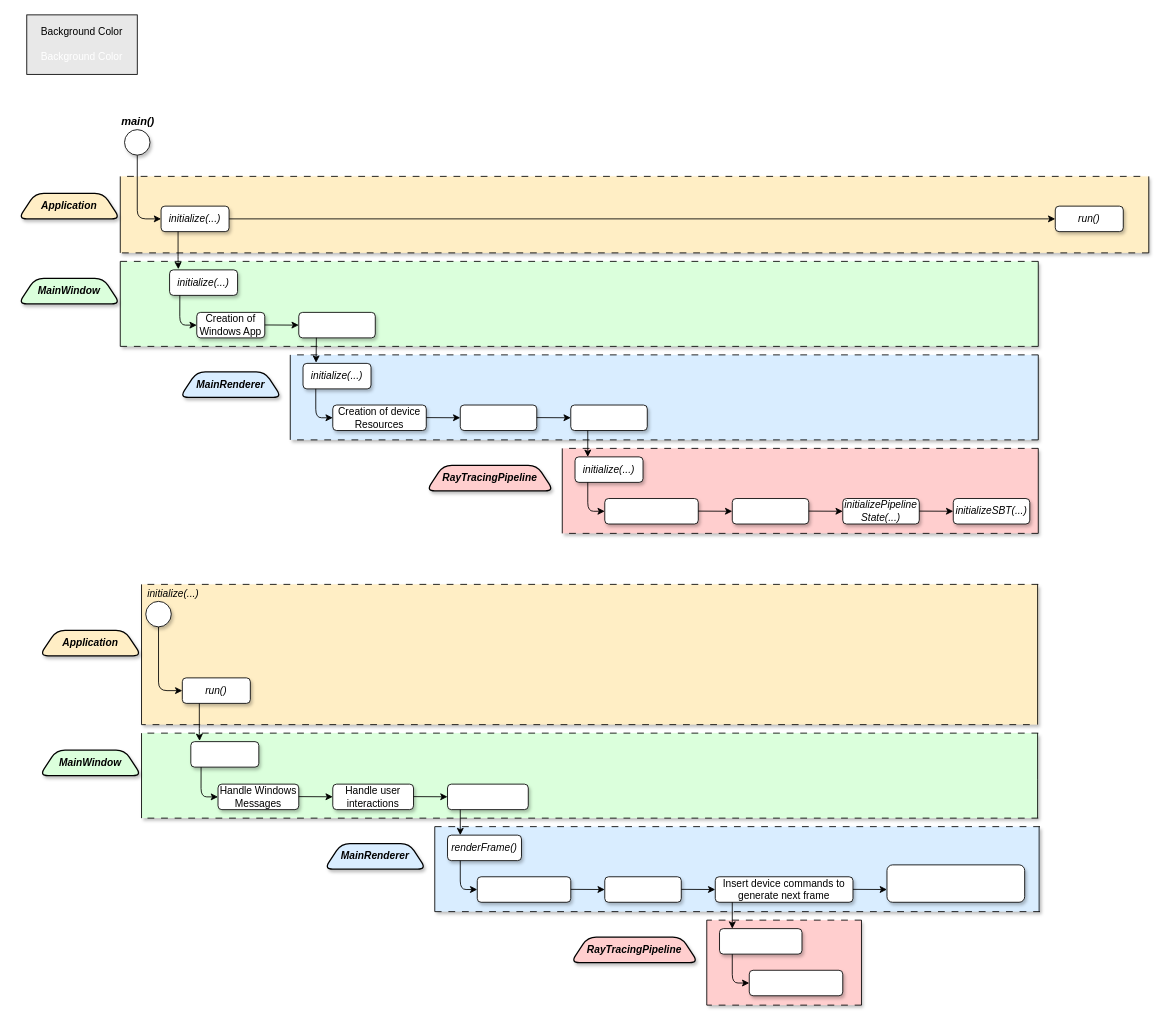
The diagram is 1169 pixels wide and 1026 high, and some of its shapes have lost their labels. Here are the shapes that lost their labels. From the top down, the centre of each, then its label:
(337,326): Creation of FGE Renderer
(499,418): Build of scene
(609,418): Initialization of DXR pipeline
(652,512): initializecbvSrvUav Resources(...)
(771,512): initializeRoot Signature(...)
(225,755): run(...)
(488,798): render frame
(524,890): Reset current device commands
(643,890): Update device constant buffer
(956,884): Submit device commands and synchronize for next frame with device
(761,942): dispatchRays(...)
